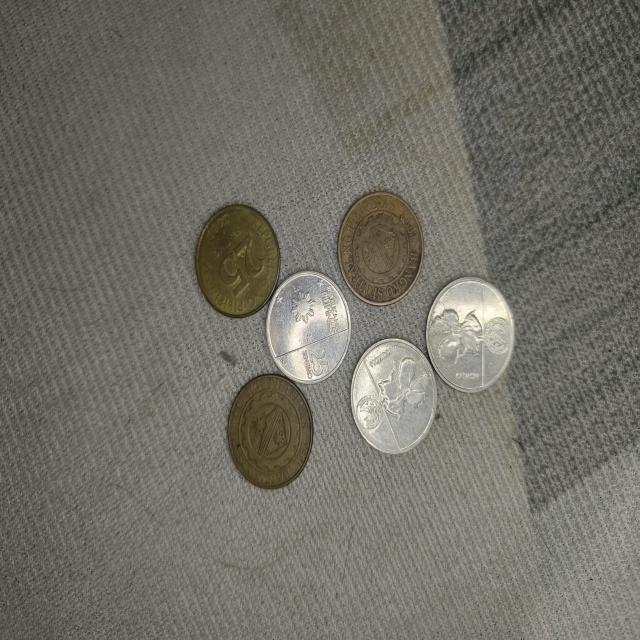25 cents: (426, 277, 516, 391), (350, 338, 438, 453), (266, 272, 352, 384)
25 cents-old: (190, 200, 283, 319), (338, 192, 426, 307), (227, 374, 315, 488)
